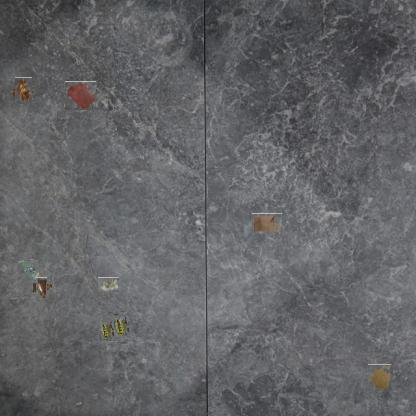dirty: (99, 314, 129, 343), (252, 213, 282, 234), (12, 80, 35, 102), (17, 260, 39, 280), (98, 277, 120, 292), (33, 280, 50, 296)
liquid: (64, 81, 96, 110), (367, 365, 392, 391)
